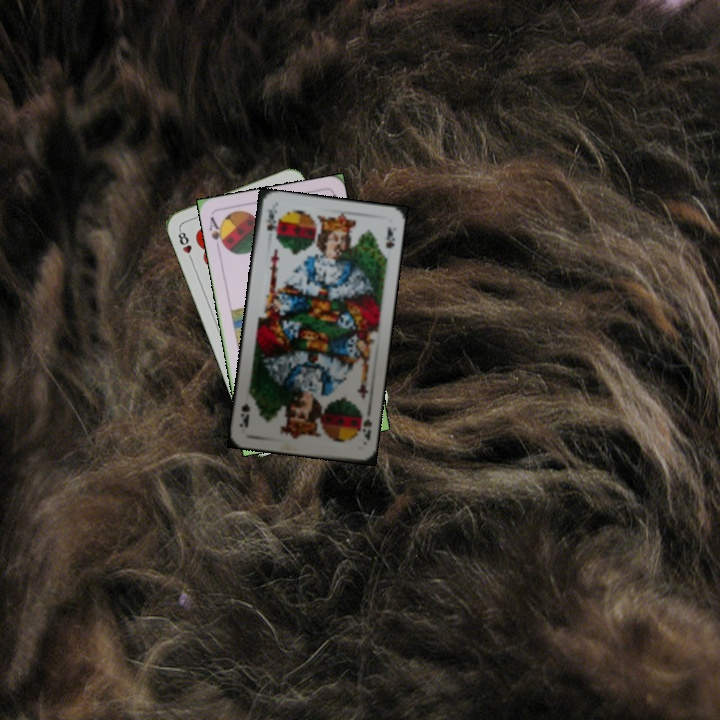H8: (174, 225, 196, 265)
SA: (205, 213, 229, 252)
SK: (262, 205, 280, 234), (359, 415, 374, 443)
